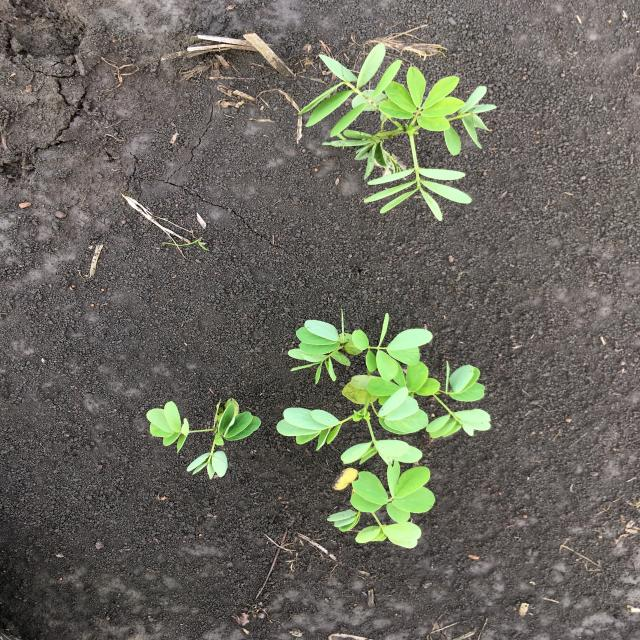Sicklepod: (274, 309, 494, 548), (294, 40, 501, 223), (144, 395, 265, 479)
